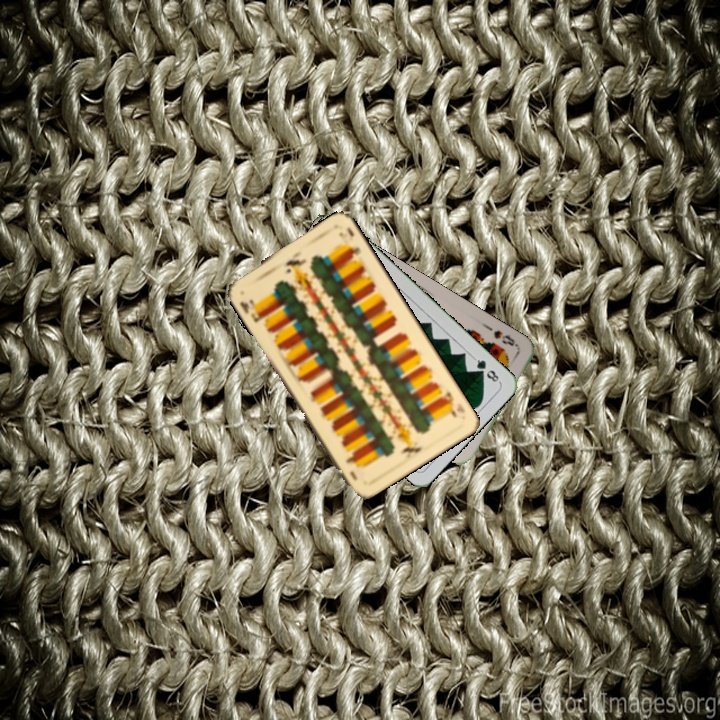E10: (236, 295, 267, 325), (437, 387, 459, 421)
G8: (469, 354, 502, 385)
S8: (489, 326, 522, 356)
